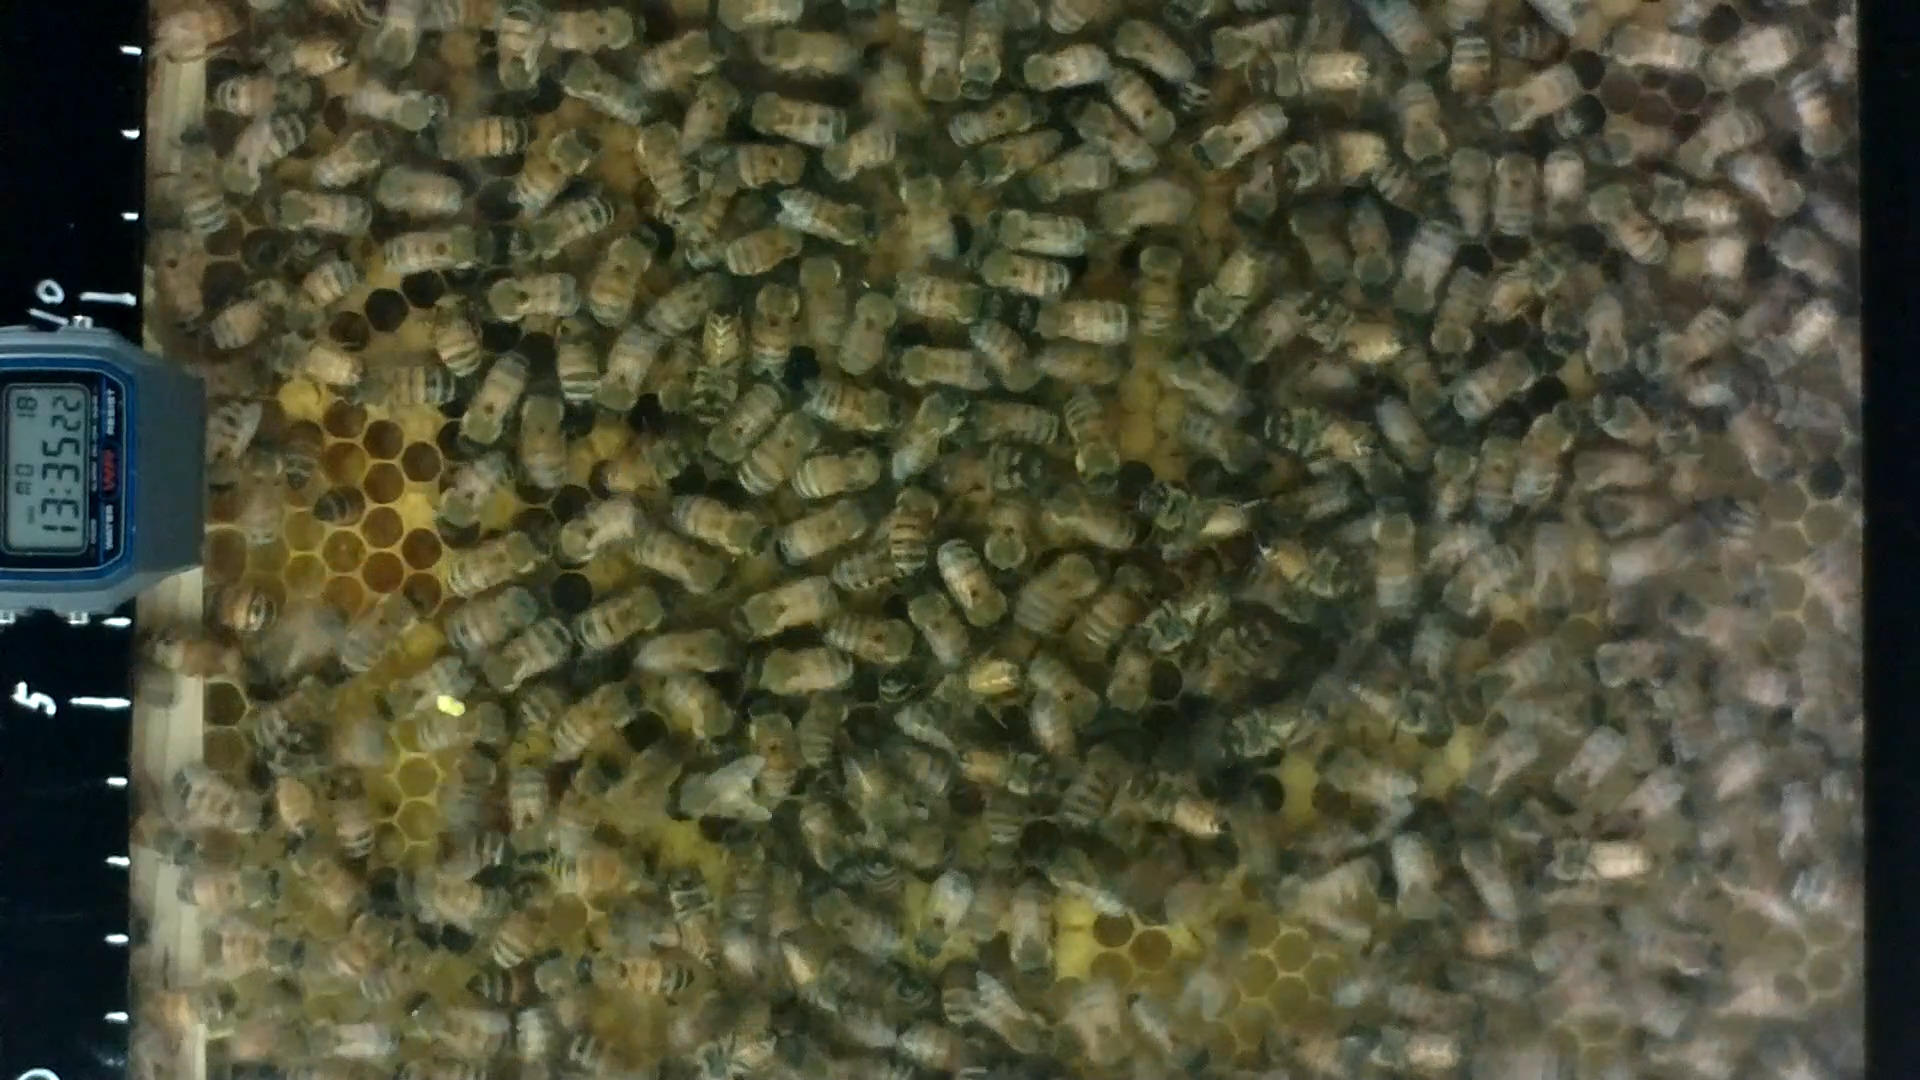hati: (717, 563, 829, 651), (1035, 477, 1139, 556), (342, 578, 425, 676), (890, 161, 968, 266), (934, 535, 1010, 640), (398, 993, 517, 1059), (171, 765, 265, 847), (1367, 496, 1422, 634), (435, 451, 518, 541), (742, 696, 806, 814), (514, 131, 607, 211), (771, 185, 884, 251), (650, 493, 771, 554), (576, 947, 696, 1007), (564, 582, 663, 654), (583, 229, 655, 326), (1604, 17, 1706, 84), (1063, 390, 1122, 505), (433, 531, 549, 589), (1481, 71, 1586, 135), (1195, 105, 1290, 174), (749, 276, 807, 385), (368, 222, 491, 273), (257, 189, 372, 243), (969, 204, 1092, 255), (1575, 278, 1630, 389), (517, 384, 574, 491), (1168, 415, 1258, 483), (410, 704, 524, 757), (472, 266, 584, 319), (1018, 294, 1130, 347), (235, 436, 285, 554), (504, 761, 553, 878), (152, 219, 199, 336), (323, 765, 382, 858), (1495, 144, 1544, 257), (887, 344, 1004, 392), (818, 608, 913, 666), (1398, 216, 1448, 326), (637, 22, 725, 84), (414, 115, 530, 161), (804, 380, 891, 440), (364, 165, 465, 216), (1453, 349, 1534, 413), (1013, 42, 1106, 96), (637, 124, 694, 212), (215, 926, 302, 982), (454, 589, 530, 649), (1135, 239, 1179, 339), (885, 481, 935, 568), (965, 251, 1064, 294), (353, 367, 458, 407), (746, 100, 845, 138)
